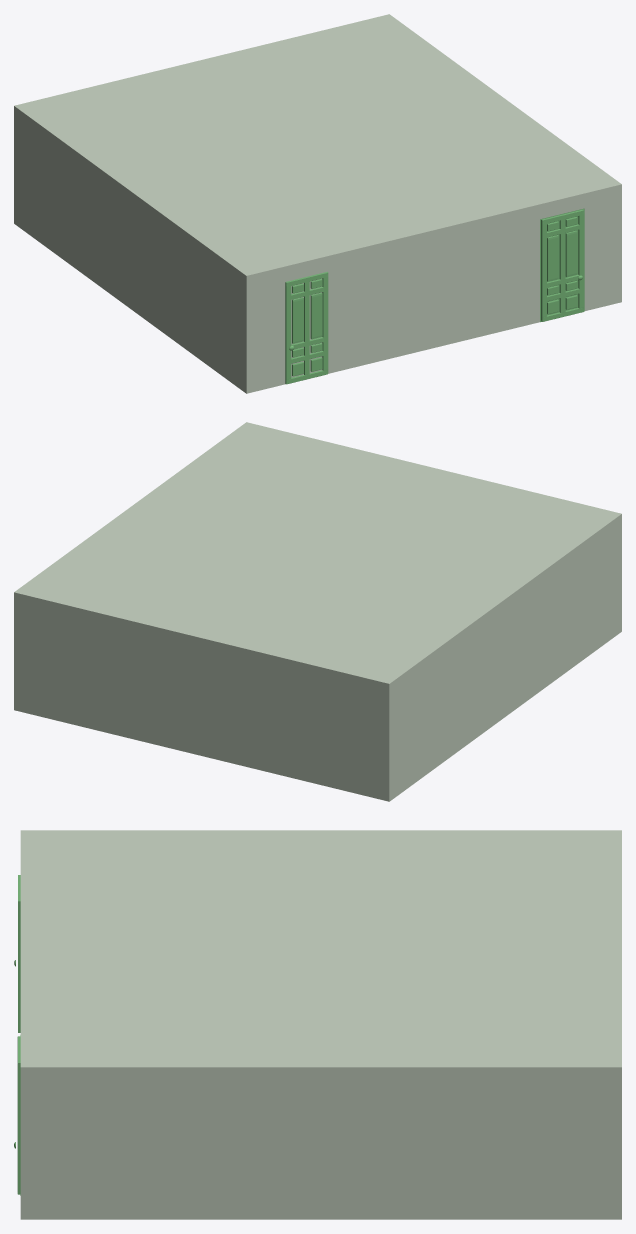
Rendered from Room 4.glb.
3 renders of one model, top to bottom at view 1: azimuth 30°, elevation 25°; view 2: azimuth 150°, elevation 25°; view 3: azimuth 270°, elevation 25°, orthographic. The views are drawn at different scales.
Visible parts, largest first — view 1: Mesh_Mesh_head_geo.001_lambert2SG.001; view 2: Mesh_Mesh_head_geo.001_lambert2SG.001; view 3: Mesh_Mesh_head_geo.001_lambert2SG.001.
Boxes of the visible parts, bbox=[...] form: Mesh_Mesh_head_geo.001_lambert2SG.001: bbox=[14, 14, 621, 393]; Mesh_Mesh_head_geo.001_lambert2SG.001: bbox=[14, 422, 621, 801]; Mesh_Mesh_head_geo.001_lambert2SG.001: bbox=[14, 830, 621, 1219].
Size of the model in its own units: 40 by 12 by 43.37.
